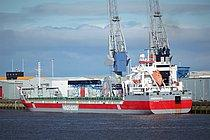Ship: (13, 46, 196, 117)
